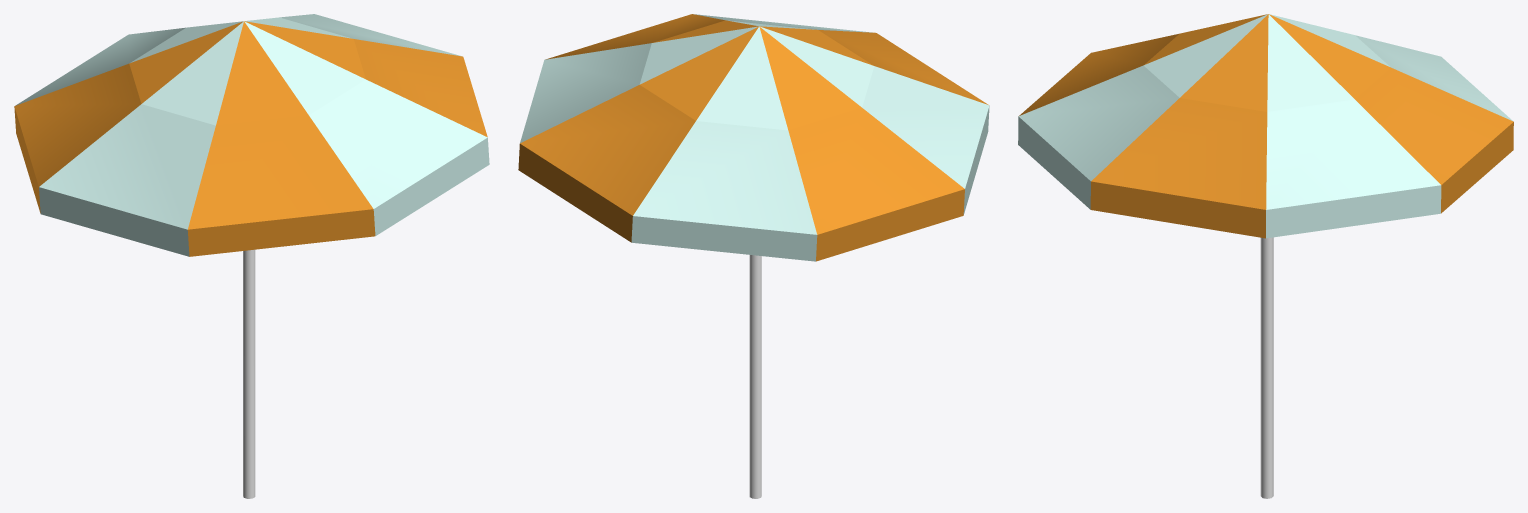
Rendered from Umbrella_whith_color_without_legs.FBX.
3 renders of one model, left to right at view 1: azimuth 30°, elevation 25°; view 2: azimuth 150°, elevation 25°; view 3: azimuth 270°, elevation 25°, orthographic.
Visible parts, largest first — view 1: Cone, Cylinder001; view 2: Cone, Cylinder001; view 3: Cone, Cylinder001.
Boxes of the visible parts, x1,y1,x2,y2 form: Cone: (14,14,489,256); Cylinder001: (243,249,255,498); Cone: (518,14,989,261); Cylinder001: (749,255,761,498); Cone: (1018,14,1513,238); Cylinder001: (1260,237,1273,498).
Bounding box in the file's own units: 349 × 372 × 348.
